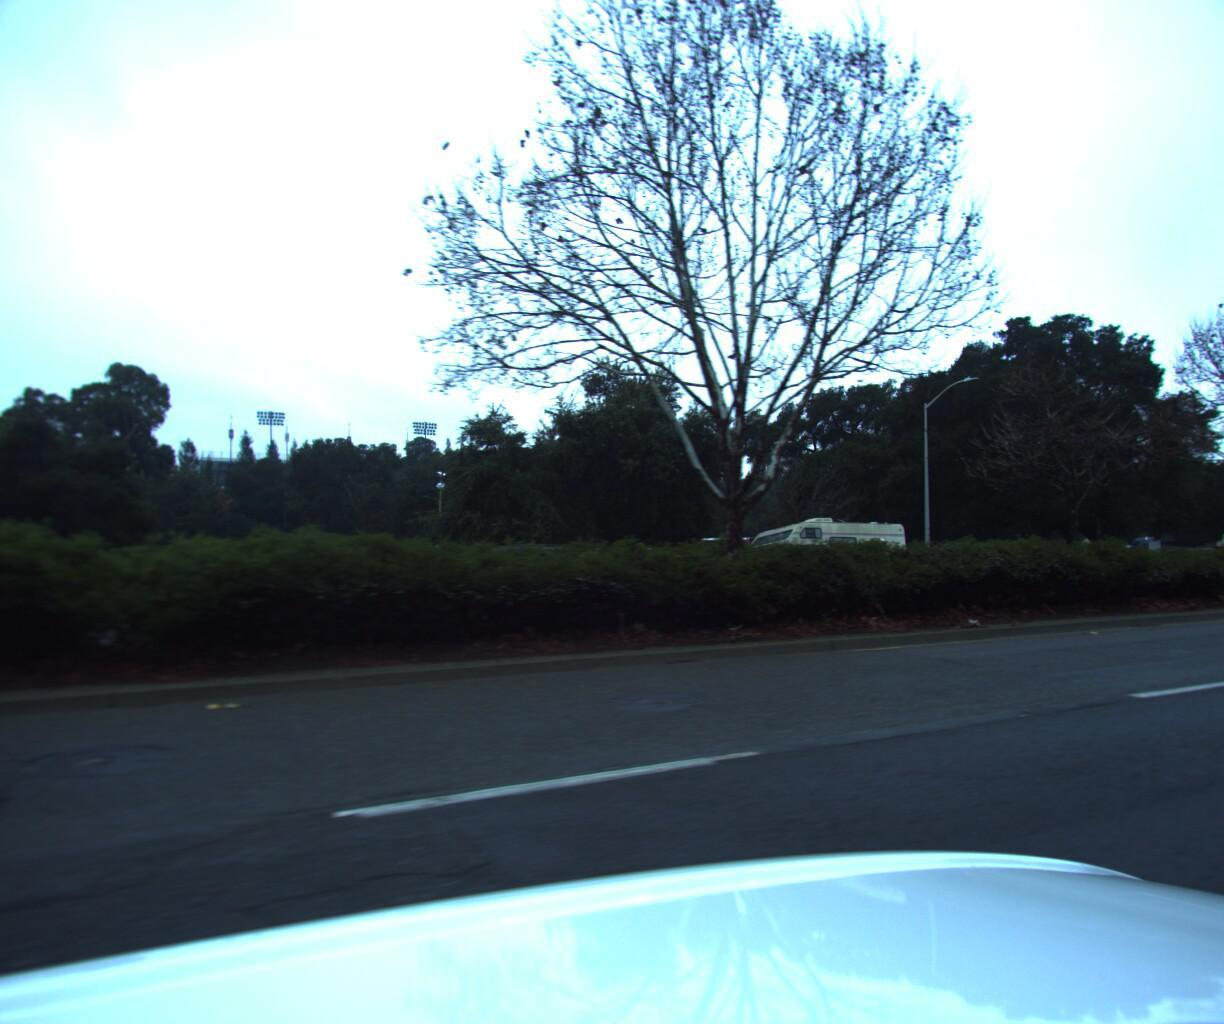other_vehicle: (738, 509, 908, 569), (1206, 516, 1224, 579)
